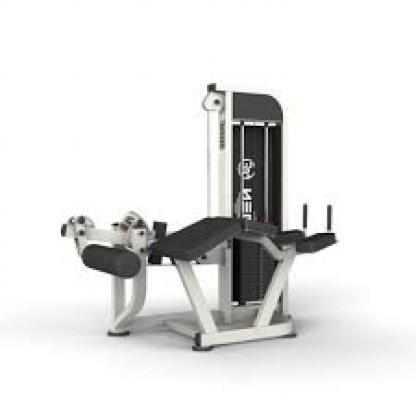reg curl machine: (59, 81, 341, 356)
